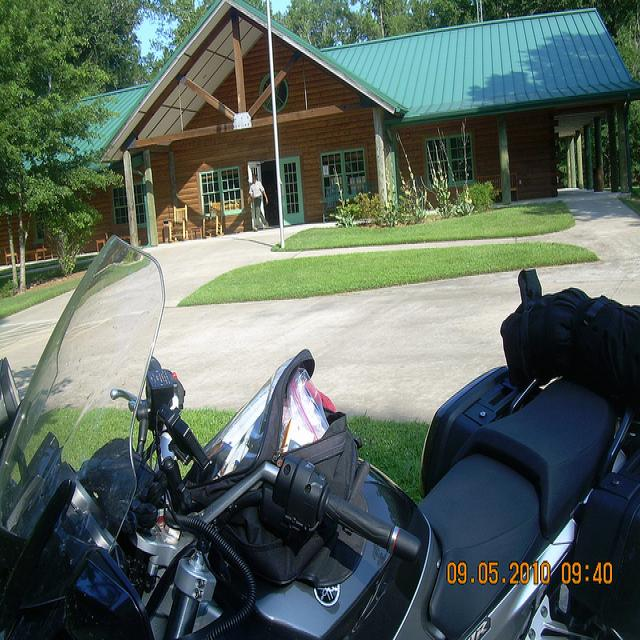motor: (0, 234, 640, 633)
